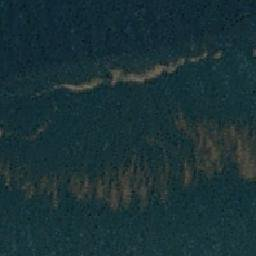debris: (189, 126, 234, 173), (126, 154, 153, 199), (233, 124, 255, 179), (80, 176, 126, 201), (45, 177, 76, 199), (7, 166, 40, 186), (52, 79, 99, 92), (155, 161, 168, 201), (152, 61, 184, 76), (180, 163, 195, 184), (126, 72, 154, 82), (102, 200, 127, 211), (128, 198, 154, 208), (108, 68, 124, 84), (185, 52, 209, 62), (176, 115, 187, 135), (35, 122, 48, 134), (215, 49, 222, 58)
